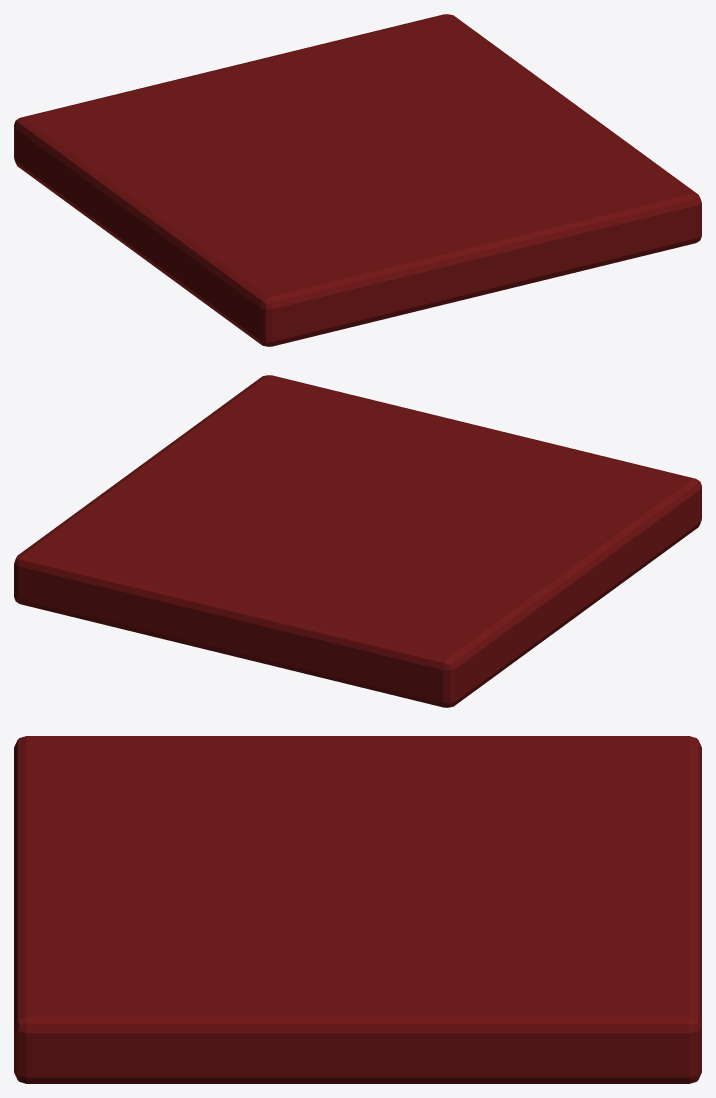
Rendered from TileRed.obj.
3 renders of one model, top to bottom at view 1: azimuth 30°, elevation 25°; view 2: azimuth 150°, elevation 25°; view 3: azimuth 270°, elevation 25°, orthographic. The views are drawn at different scales.
Visible parts, largest first — view 1: Plane; view 2: Plane; view 3: Plane.
Boxes of the visible parts, x1,y1,x2,y2 form: Plane: (14, 14, 701, 346); Plane: (14, 375, 701, 707); Plane: (14, 736, 701, 1083).
Bounding box in the file's own units: 1 × 0.1071 × 1.
Materials: 1 (1 with a texture image).
